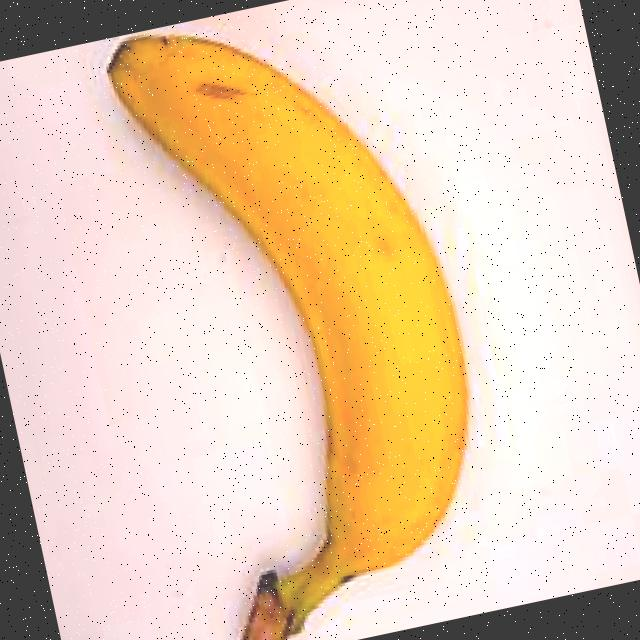Ripe: (43, 0, 552, 640)
